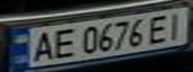0: (78, 22, 100, 55)
6: (127, 15, 151, 47), (97, 20, 118, 53)
7: (112, 18, 133, 51)
A: (24, 29, 57, 63)
E: (48, 26, 78, 61), (145, 11, 175, 44)
I: (163, 9, 190, 40)
